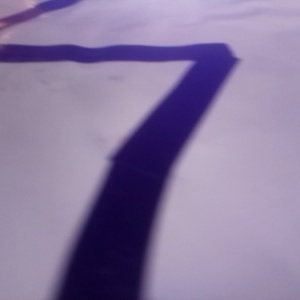top_right: (230, 33, 300, 76), (37, 5, 106, 28)
